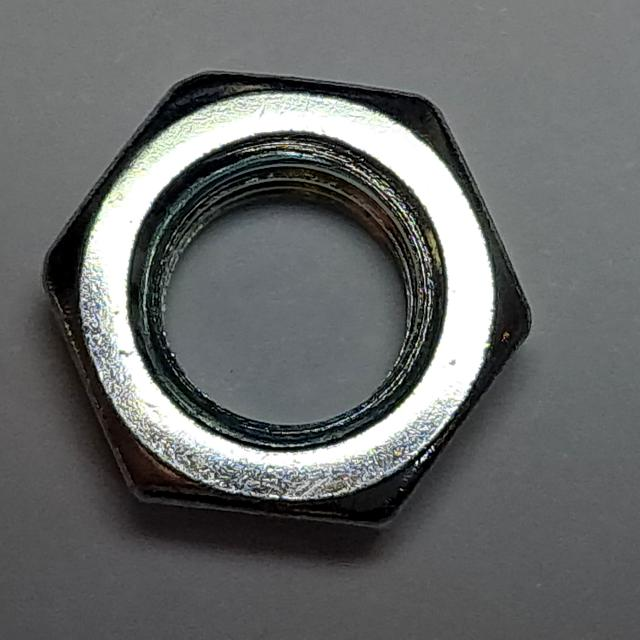Excellent: (30, 59, 557, 542)
